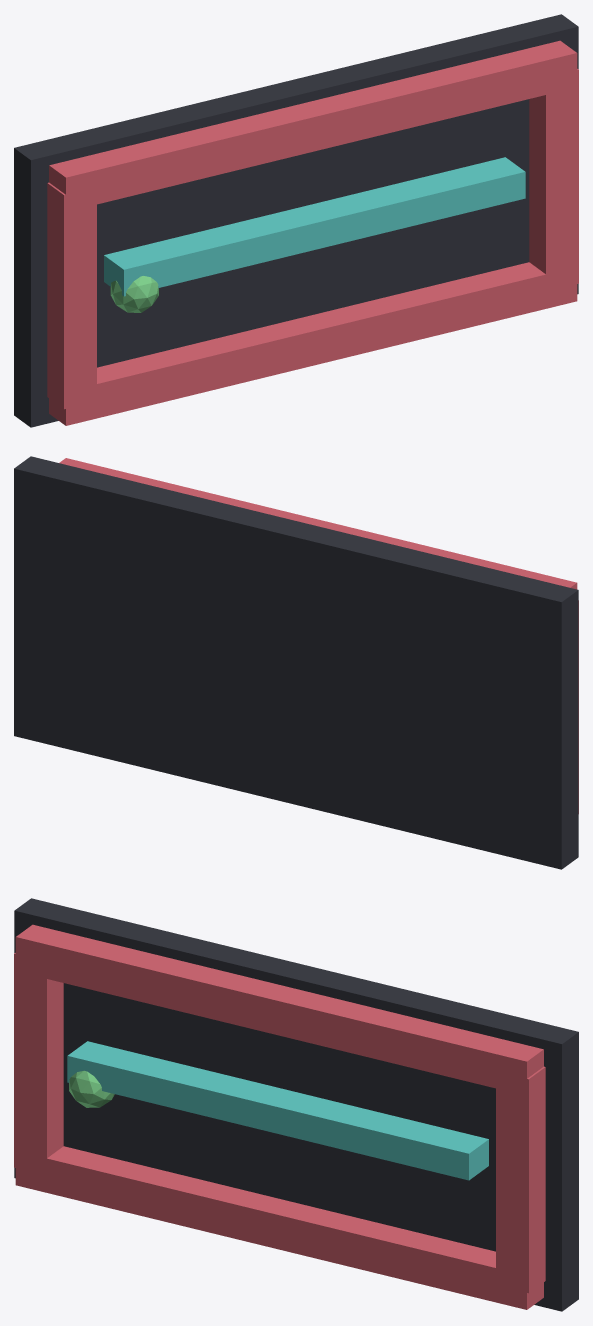
Rendered from neon_laride.glb.
3 renders of one model, top to bottom at view 1: azimuth 30°, elevation 25°; view 2: azimuth 150°, elevation 25°; view 3: azimuth 330°, elevation 25°, orthographic.
Visible parts, largest first — view 1: world; view 2: world; view 3: world.
Part boxes in pixels (x1,y1,x2,y2): world: [14, 14, 578, 427]; world: [14, 456, 578, 869]; world: [14, 898, 578, 1311].
Size of the model in its own units: 1.5 by 0.7 by 0.2.
